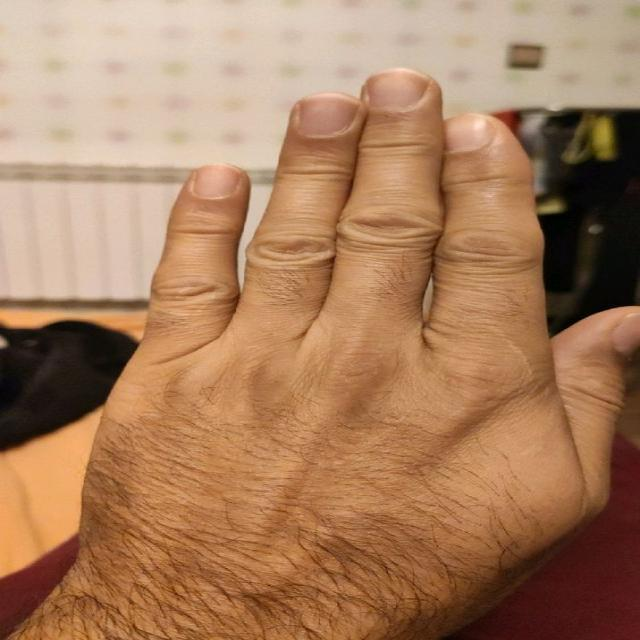Fingernail: (368, 71, 429, 110), (300, 96, 357, 137), (445, 115, 493, 152), (191, 164, 240, 199)
